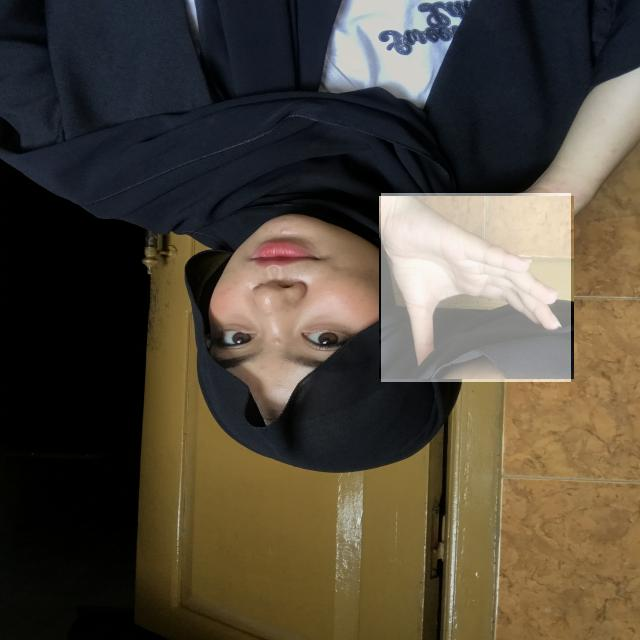mendengar: (381, 193, 571, 382)
